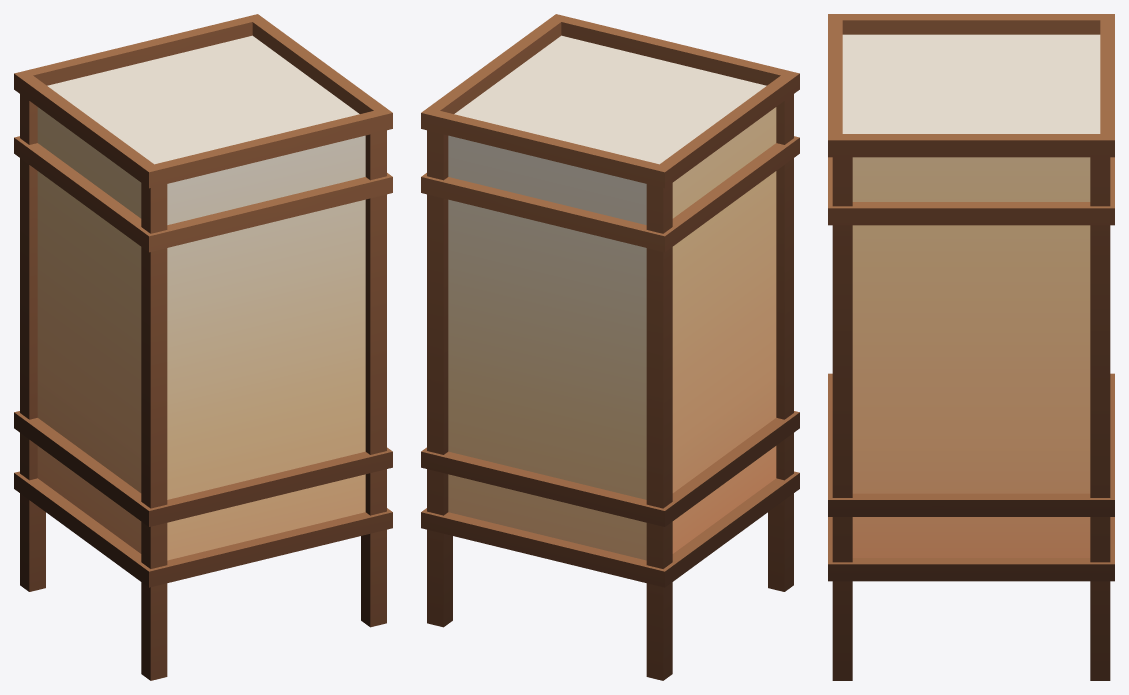
Rendered from SK_Lamp_004.FBX.
The picture shows the model from 3 angles, left to right: view 1: azimuth 30°, elevation 25°; view 2: azimuth 150°, elevation 25°; view 3: azimuth 270°, elevation 25°; orthographic projection. The views are drawn at different scales.
Parts seen in each view (by area): view 1: SK_Lamp_004_light, SK_Lamp_004; view 2: SK_Lamp_004_light, SK_Lamp_004; view 3: SK_Lamp_004_light, SK_Lamp_004.
Part boxes in pixels (x1=…): SK_Lamp_004_light: x1=37, y1=35, x2=365, y2=560; SK_Lamp_004: x1=14, y1=14, x2=392, y2=680; SK_Lamp_004_light: x1=448, y1=35, x2=776, y2=560; SK_Lamp_004: x1=421, y1=14, x2=799, y2=680; SK_Lamp_004_light: x1=842, y1=34, x2=1100, y2=557; SK_Lamp_004: x1=828, y1=14, x2=1114, y2=680.
Size of the model in its own units: 21.99 by 44.03 by 21.09.
